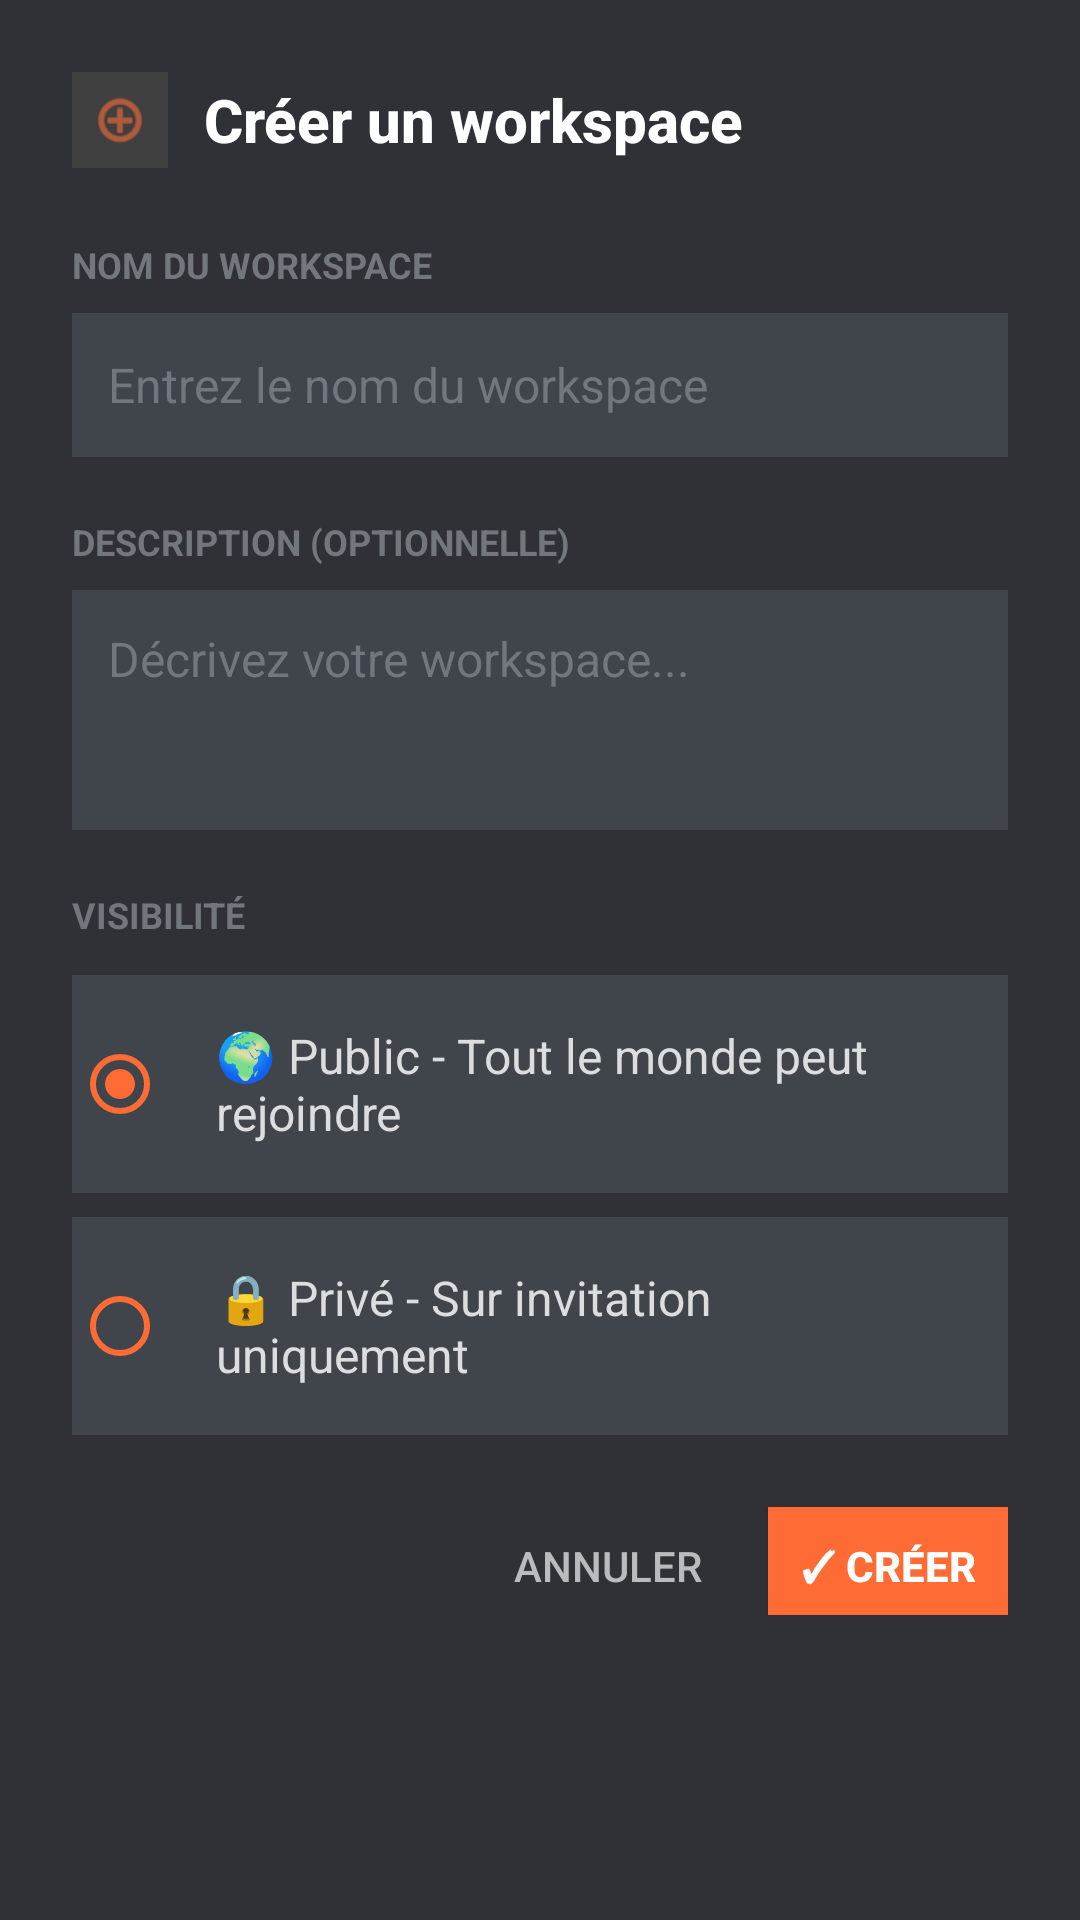

Named icons in this screenshot (1080×1920) and their bounding boxes, (x1, y1, x2, y2):
add: (97, 98, 143, 143)
